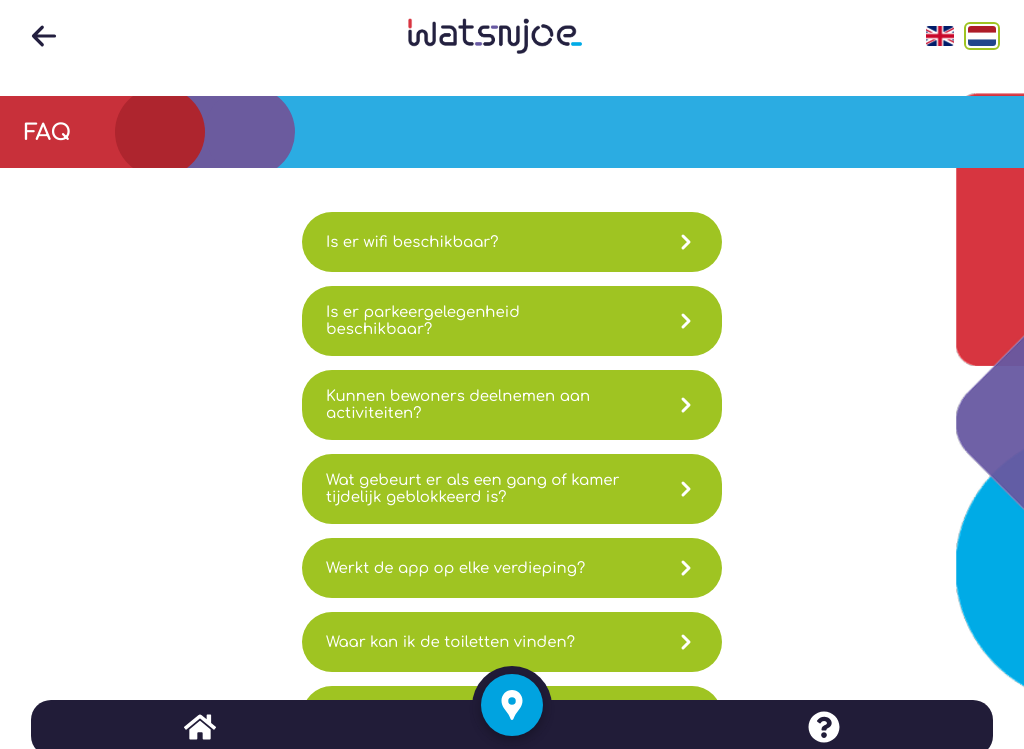
it: FAQ Page › Language toggle › switches back to Dutch questions
The width and height of the screenshot is (1024, 749).
Click the button named "Switch to English" at (940, 36), box [922,22,958,50]
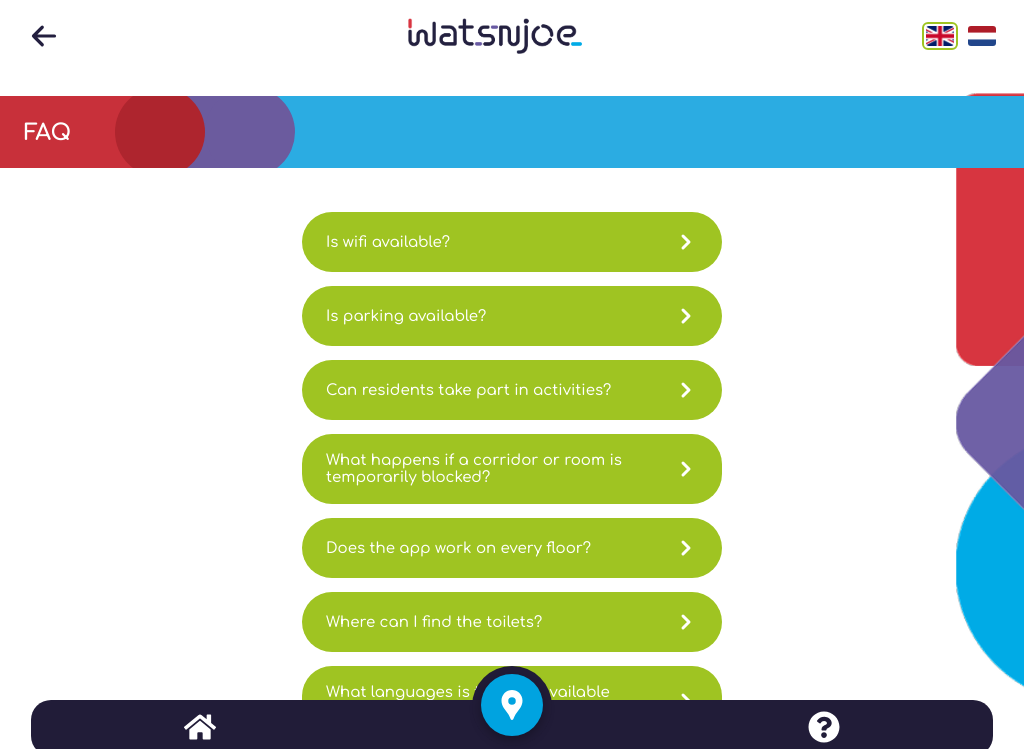
Click the button named "Schakel naar Nederlands" at (982, 36), box [964,22,1000,50]
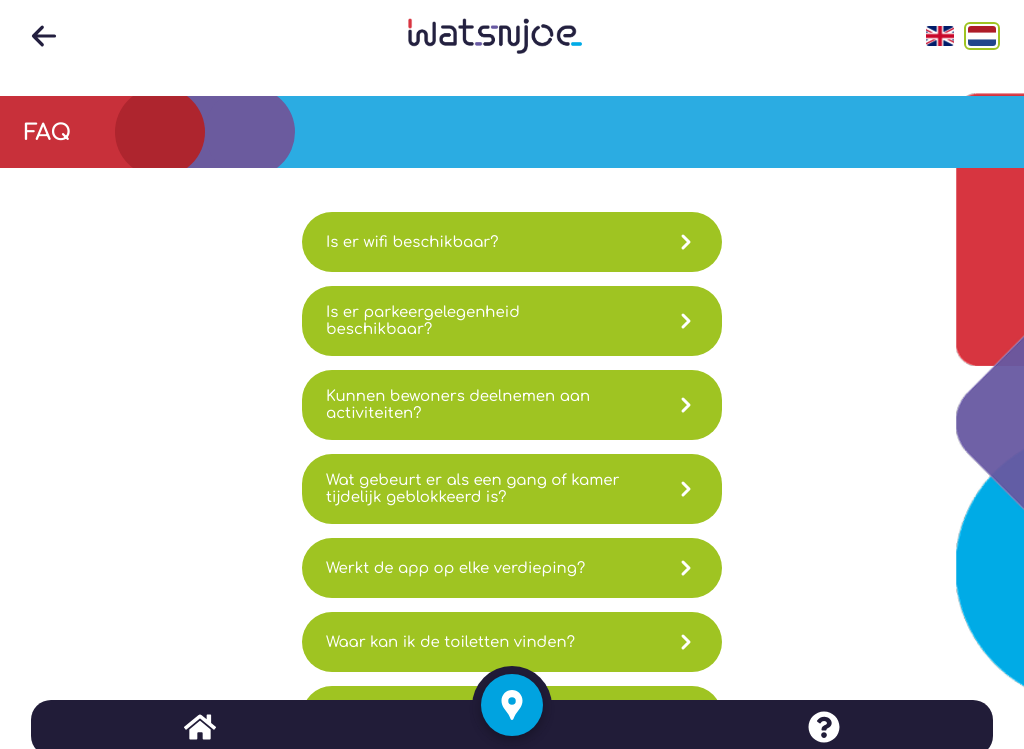
Expected: the button "Is er wifi beschikbaar?" is shown, [302,212,722,272]
